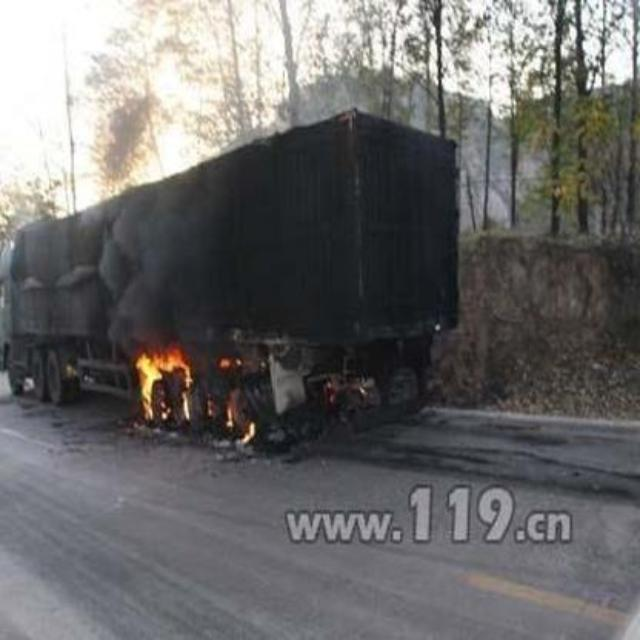Fire: (142, 347, 200, 438), (326, 376, 346, 406), (214, 351, 246, 369), (241, 422, 257, 444), (202, 397, 218, 419), (224, 404, 236, 430)
Smoke: (115, 197, 233, 339)
